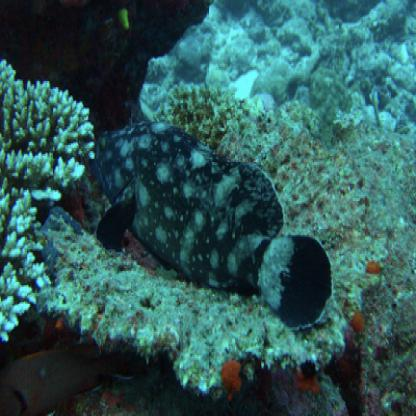grouper: (84, 117, 335, 335)
